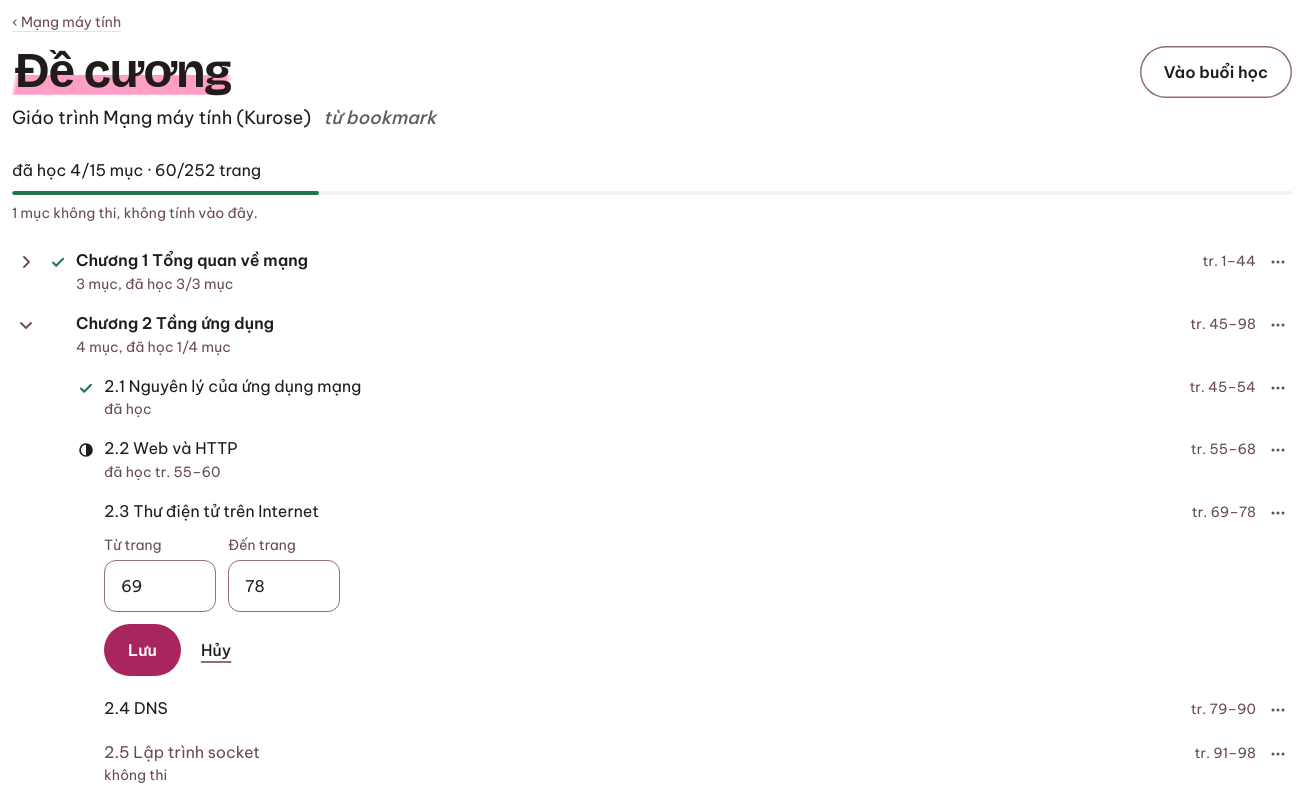
Test case: edit range (US-13 AC4) › saving a bad range shows the sentence and focuses the field
Replace the text in the field labelled "Từ trang" with "900" at (160,586), box [104, 560, 216, 612]
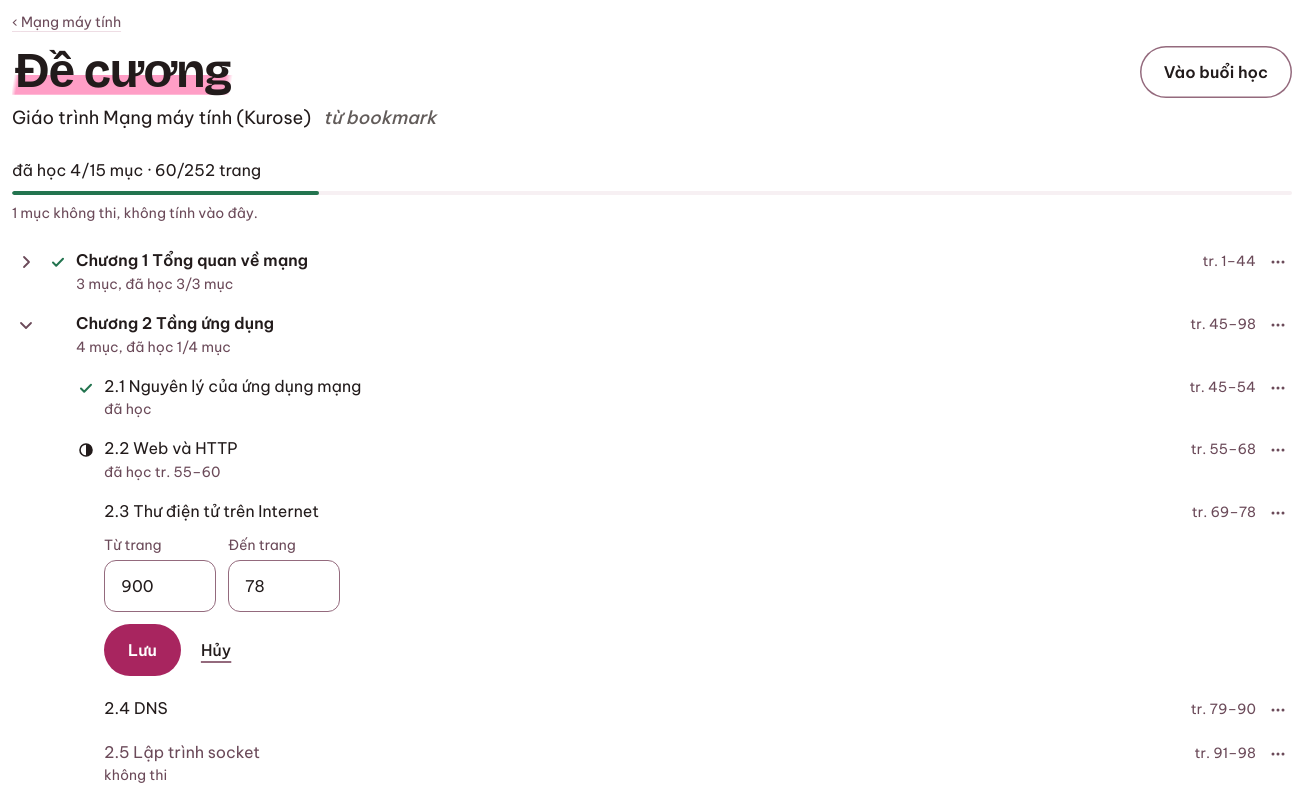
Click the button "Lưu" at (142,650), box [104, 624, 181, 676]
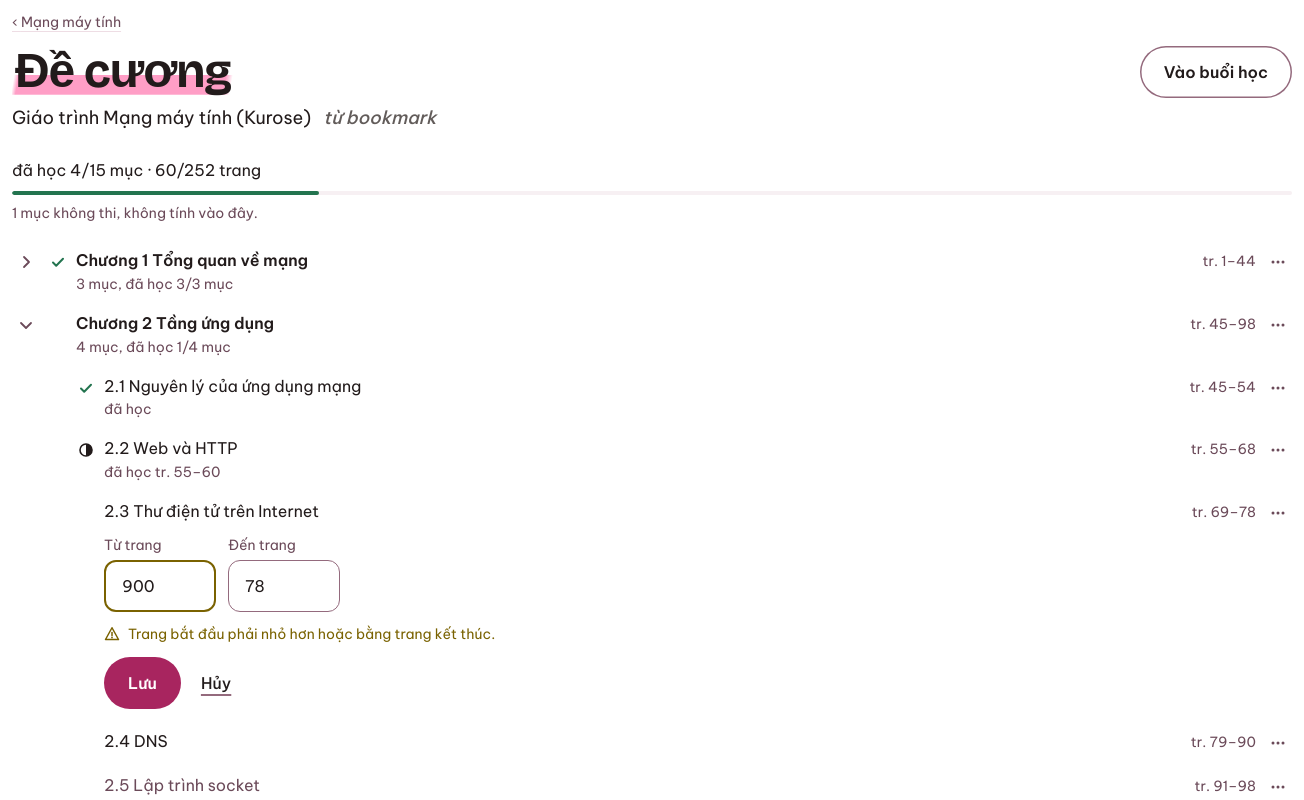
Expected: the element showing "Trang bắt đầu phải nhỏ hơn hoặc bằng trang kết thúc." is shown, [104, 625, 495, 643]
